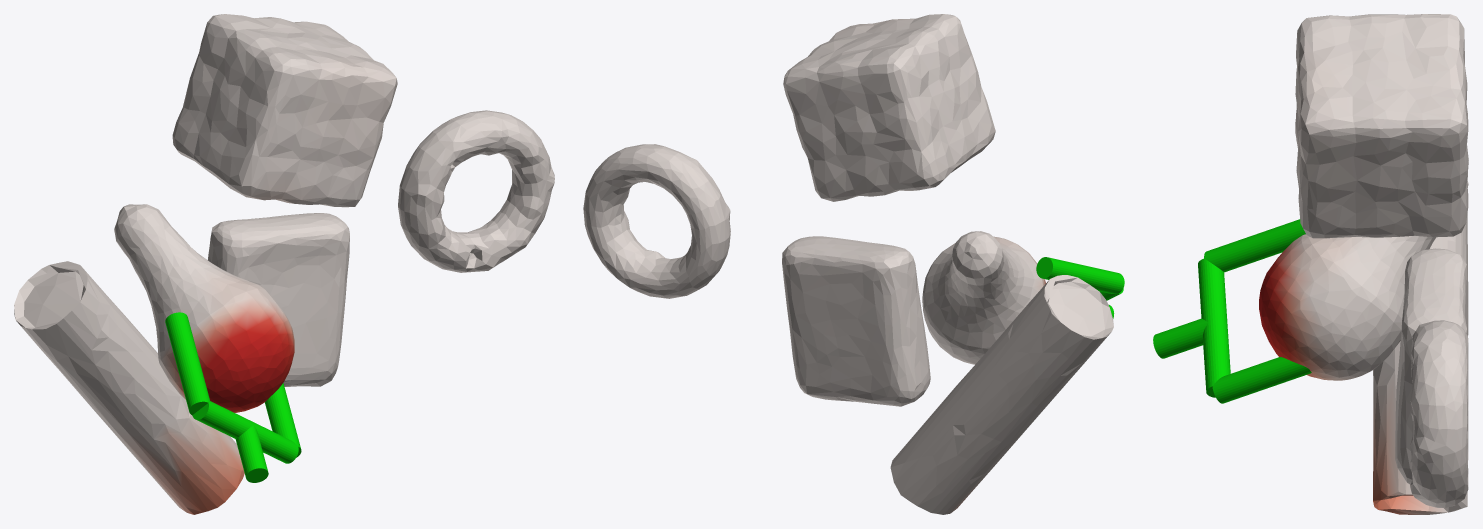
File: round_000_trial_000.obj
The picture shows the model from 3 angles, left to right: view 1: azimuth 30°, elevation 25°; view 2: azimuth 150°, elevation 25°; view 3: azimuth 270°, elevation 25°; orthographic projection. The views are drawn at different scales.
Parts seen in each view (by area): view 1: geometry_0, geometry_1; view 2: geometry_0, geometry_1; view 3: geometry_0, geometry_1.
Part boxes in pixels (bbox=[...]): geometry_0: bbox=[14, 14, 554, 514]; geometry_1: bbox=[165, 312, 301, 482]; geometry_0: bbox=[583, 14, 1113, 514]; geometry_1: bbox=[1036, 257, 1124, 318]; geometry_0: bbox=[1259, 14, 1468, 514]; geometry_1: bbox=[1153, 219, 1311, 403].
Bounding box in the file's own units: 0.2684 × 0.2264 × 0.1227.
